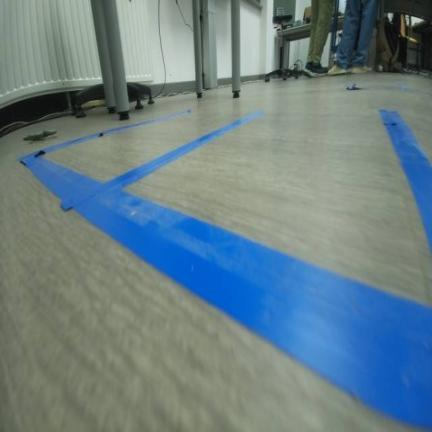place: (60, 107, 431, 430), (17, 107, 266, 212)
